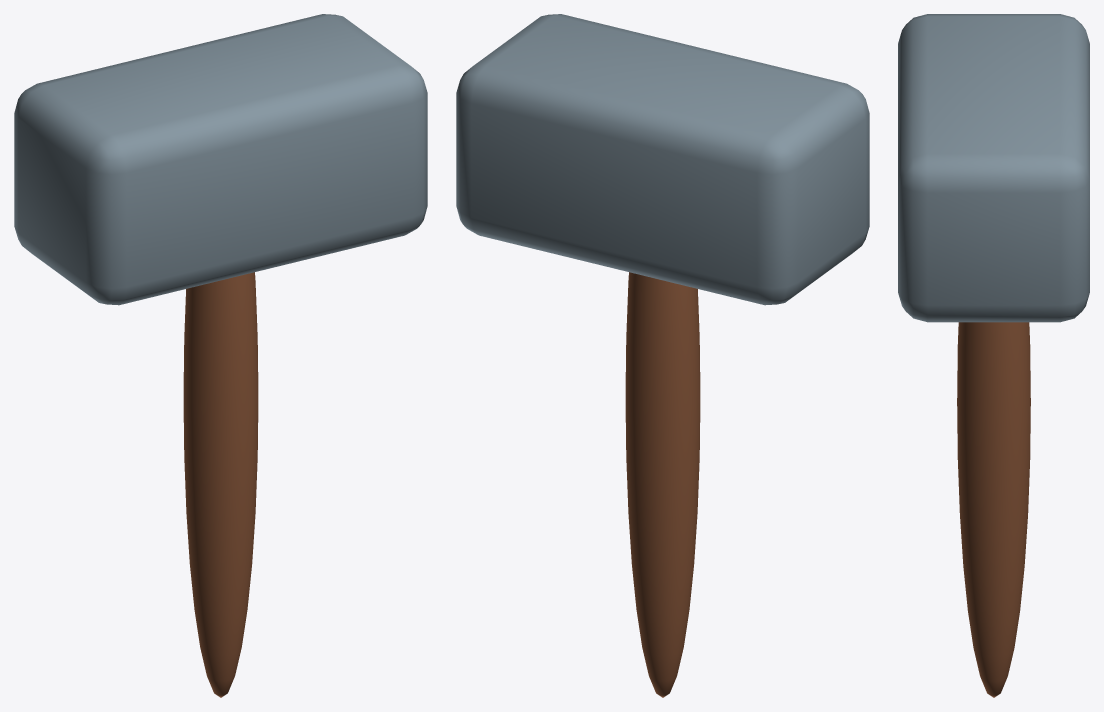
Rendered from hammer.glb.
3 renders of one model, left to right at view 1: azimuth 30°, elevation 25°; view 2: azimuth 150°, elevation 25°; view 3: azimuth 270°, elevation 25°, orthographic.
Parts seen in each view (by area): view 1: Hammer head, Ash handle; view 2: Hammer head, Ash handle; view 3: Hammer head, Ash handle.
Part boxes in pixels (x1,y1,x2,y2): Hammer head: [14, 14, 427, 305]; Ash handle: [183, 272, 258, 697]; Hammer head: [456, 14, 869, 305]; Ash handle: [625, 272, 700, 697]; Hammer head: [898, 14, 1089, 322]; Ash handle: [957, 322, 1030, 697].
Bounding box in the file's own units: 0.26 × 0.4582 × 0.13.
